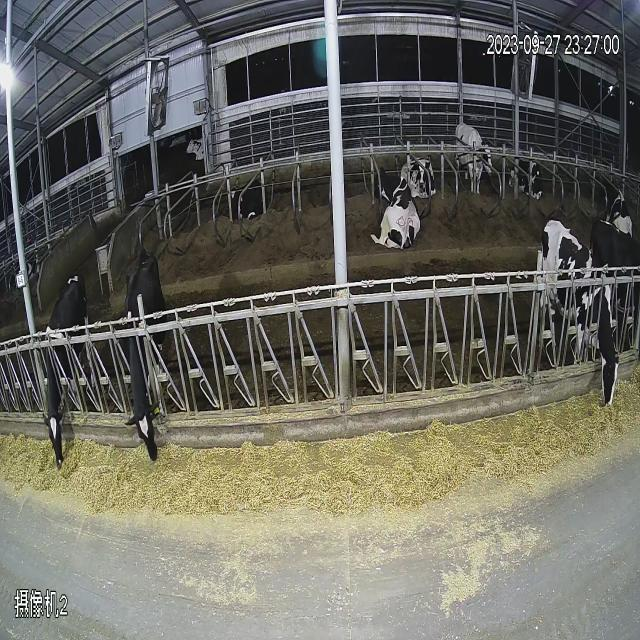feeding: (20, 231, 106, 494), (111, 220, 195, 487), (532, 214, 620, 431)
lying down: (368, 158, 410, 269), (593, 144, 640, 239), (509, 125, 554, 212), (222, 156, 272, 232), (396, 124, 438, 206), (180, 128, 213, 176)
standing: (450, 100, 499, 212), (592, 210, 640, 314)
